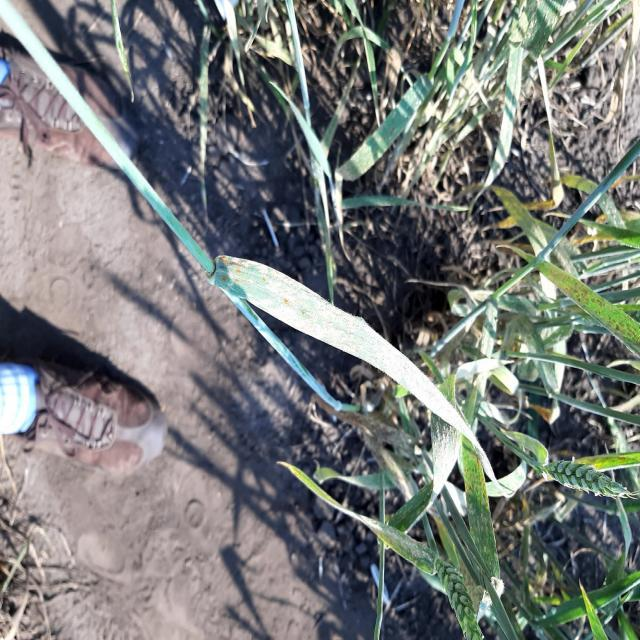wheat-powdery-mildew: (0, 0, 497, 584)
